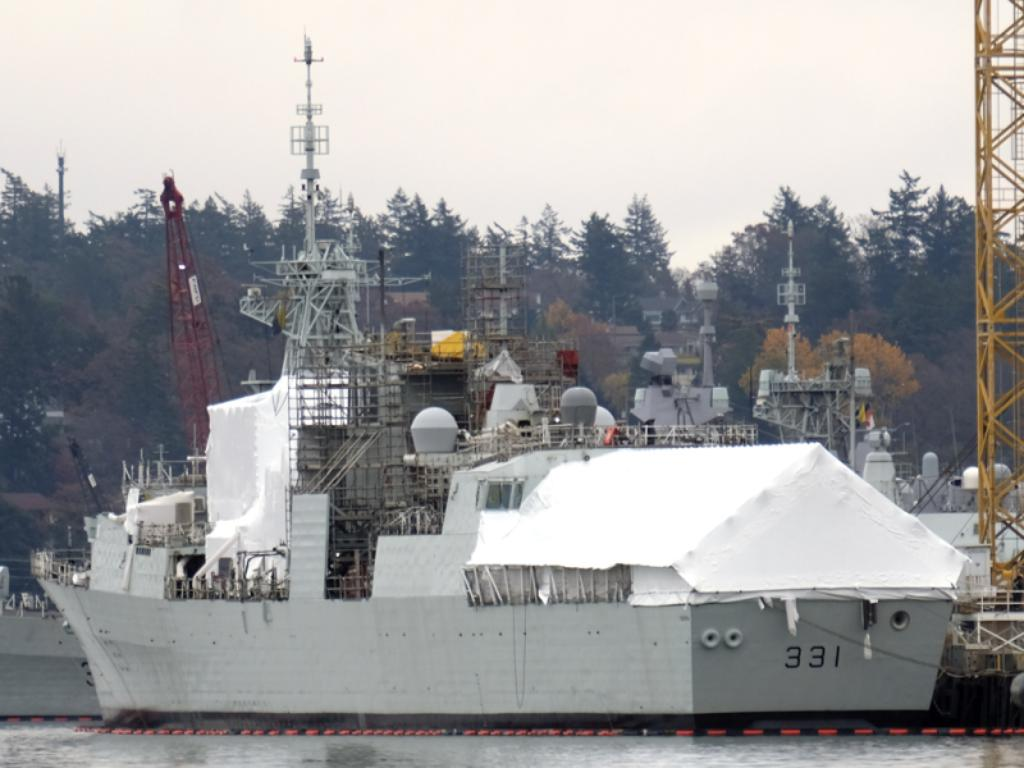Warship: (27, 17, 975, 729)
